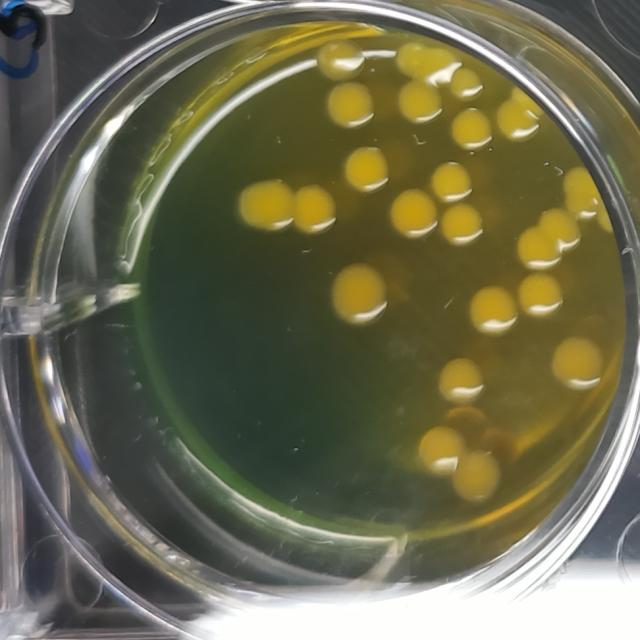vibrio: (325, 258, 393, 329), (516, 202, 582, 273), (237, 166, 298, 234), (463, 280, 522, 342), (394, 37, 464, 87), (455, 446, 511, 504), (289, 177, 342, 238), (552, 333, 607, 389), (434, 357, 491, 411), (388, 186, 443, 240), (340, 139, 393, 194), (320, 79, 378, 129), (414, 430, 470, 481), (499, 83, 545, 143), (557, 158, 600, 218), (518, 270, 567, 322), (430, 154, 478, 207), (310, 35, 367, 79), (396, 79, 444, 126), (442, 198, 487, 248), (451, 106, 497, 150), (447, 65, 484, 102)
